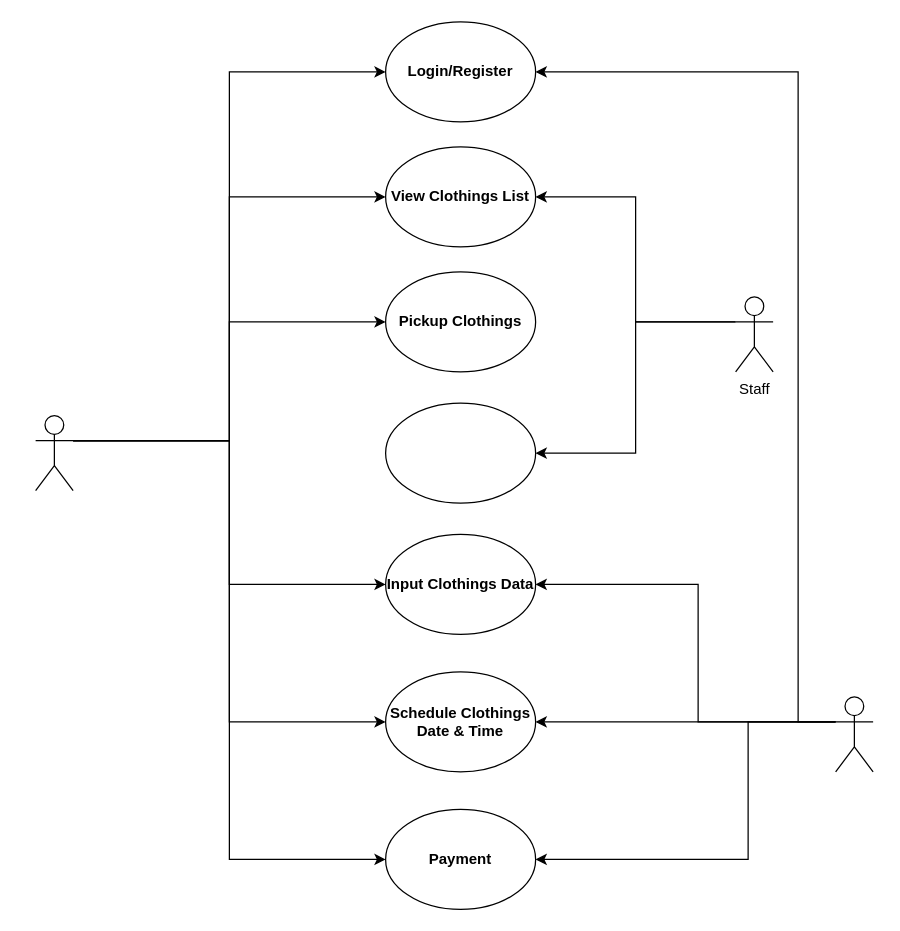
This 900x931 diagram has some shape labels left out. Here are the shapes that lost their labels. From the top down, the centre of each, then its label:
the point at 53,452: Customer
the point at 460,452: Deliver Clothings
the point at 853,734: System
